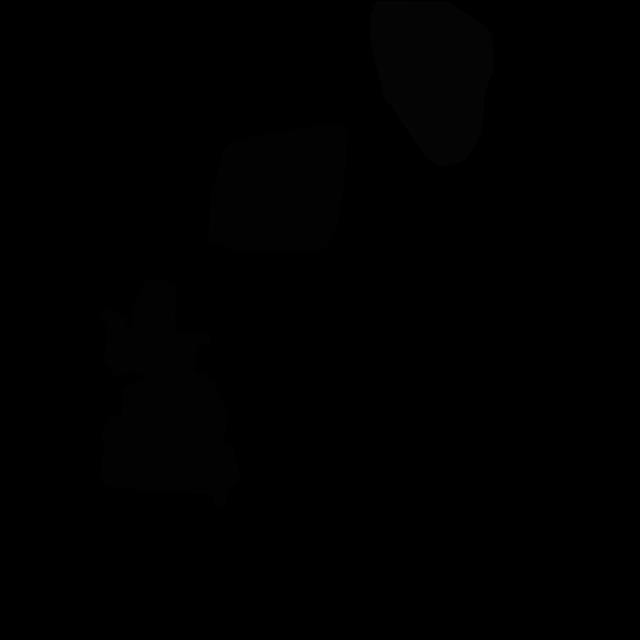cardboard: (98, 279, 242, 510), (208, 124, 348, 253)
soft_plastic: (370, 0, 494, 166)
